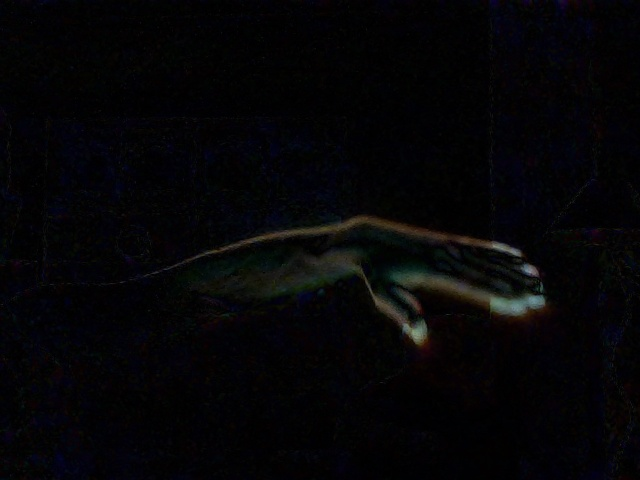hand_pa: (343, 200, 553, 354)
